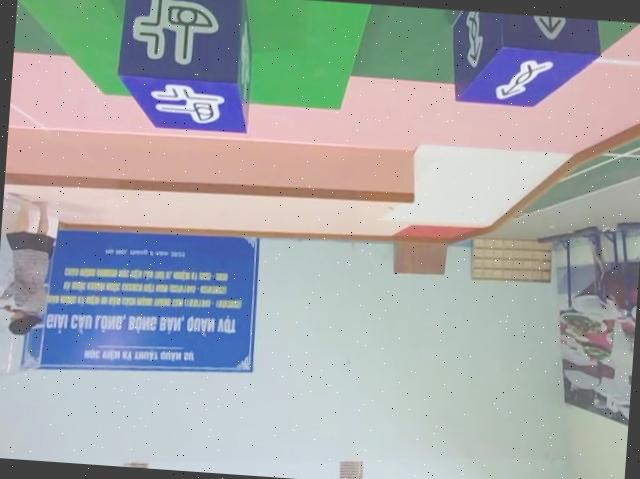R2 Real Blue: (114, 0, 257, 132), (445, 9, 600, 110)
